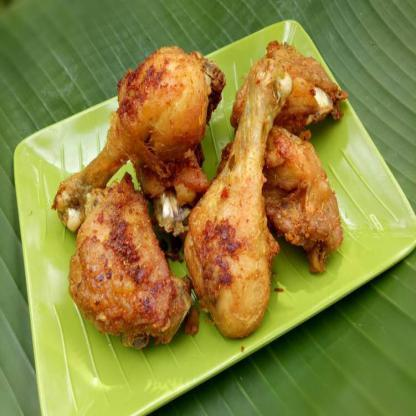ayam_goreng: (53, 49, 224, 232), (186, 57, 290, 337), (71, 182, 195, 347), (219, 130, 344, 277), (127, 85, 204, 230), (228, 43, 340, 142)
